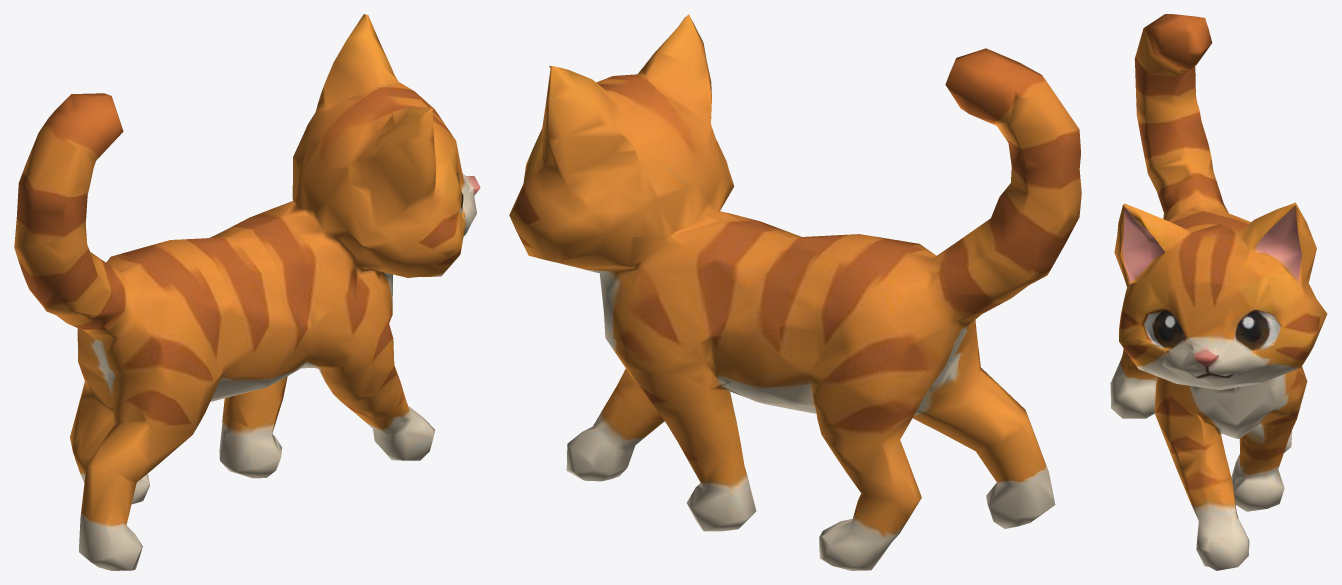
File: ginger-walk.glb
3 views of the same model, side by side, from view 1: azimuth 30°, elevation 25°; view 2: azimuth 150°, elevation 25°; view 3: azimuth 270°, elevation 25° (orthographic). The views are drawn at different scales.
Parts seen in each view (by area): view 1: tripo_node_e54474d2-8bd0-4412-a330-3749adce61d3; view 2: tripo_node_e54474d2-8bd0-4412-a330-3749adce61d3; view 3: tripo_node_e54474d2-8bd0-4412-a330-3749adce61d3.
Part boxes in pixels (x1,y1,x2,y2): tripo_node_e54474d2-8bd0-4412-a330-3749adce61d3: (14, 14, 480, 570); tripo_node_e54474d2-8bd0-4412-a330-3749adce61d3: (509, 14, 1081, 570); tripo_node_e54474d2-8bd0-4412-a330-3749adce61d3: (1110, 14, 1327, 570).
Size of the model in its own units: 1 by 0.9153 by 0.447.
1 material, 1 textured.
